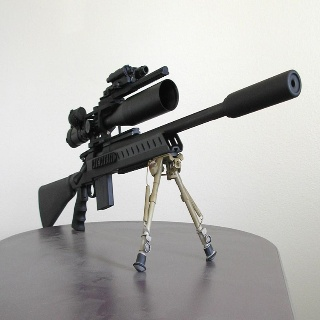rifle: (36, 59, 305, 230)
